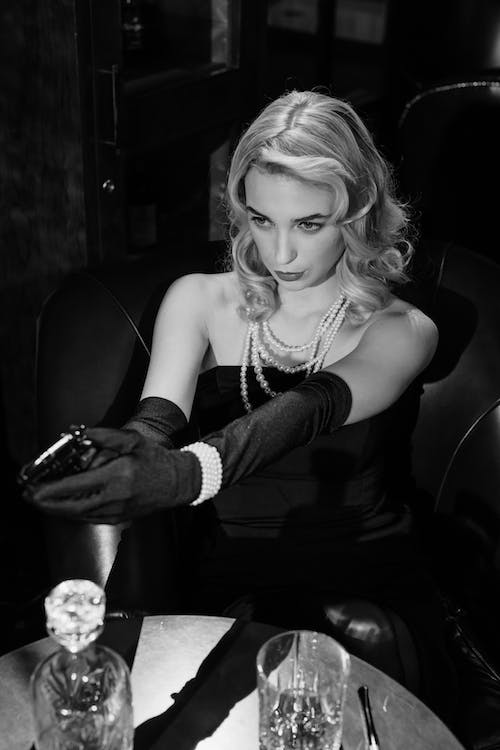alcohol: (29, 613, 136, 750), (253, 627, 350, 750)
gun: (13, 419, 99, 493)
